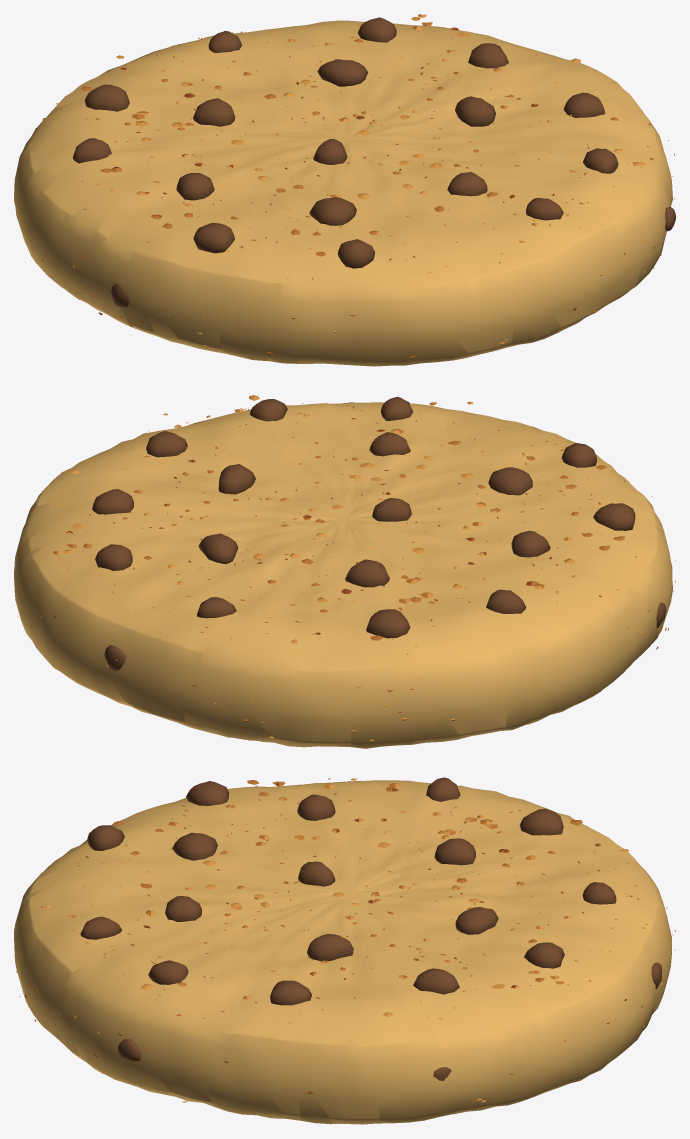
The model's file is ChocolateChipCookie.fbx.
3 views of the same model, one above another, from view 1: azimuth 30°, elevation 25°; view 2: azimuth 150°, elevation 25°; view 3: azimuth 270°, elevation 25° (orthographic).
Parts seen in each view (by area): view 1: ChocolateChipCookie; view 2: ChocolateChipCookie; view 3: ChocolateChipCookie.
Part boxes in pixels (x1,y1,x2,y2): ChocolateChipCookie: [14, 14, 675, 366]; ChocolateChipCookie: [14, 395, 675, 748]; ChocolateChipCookie: [14, 777, 675, 1124].
Bounding box in the file's own units: 5 × 1.1 × 5.
